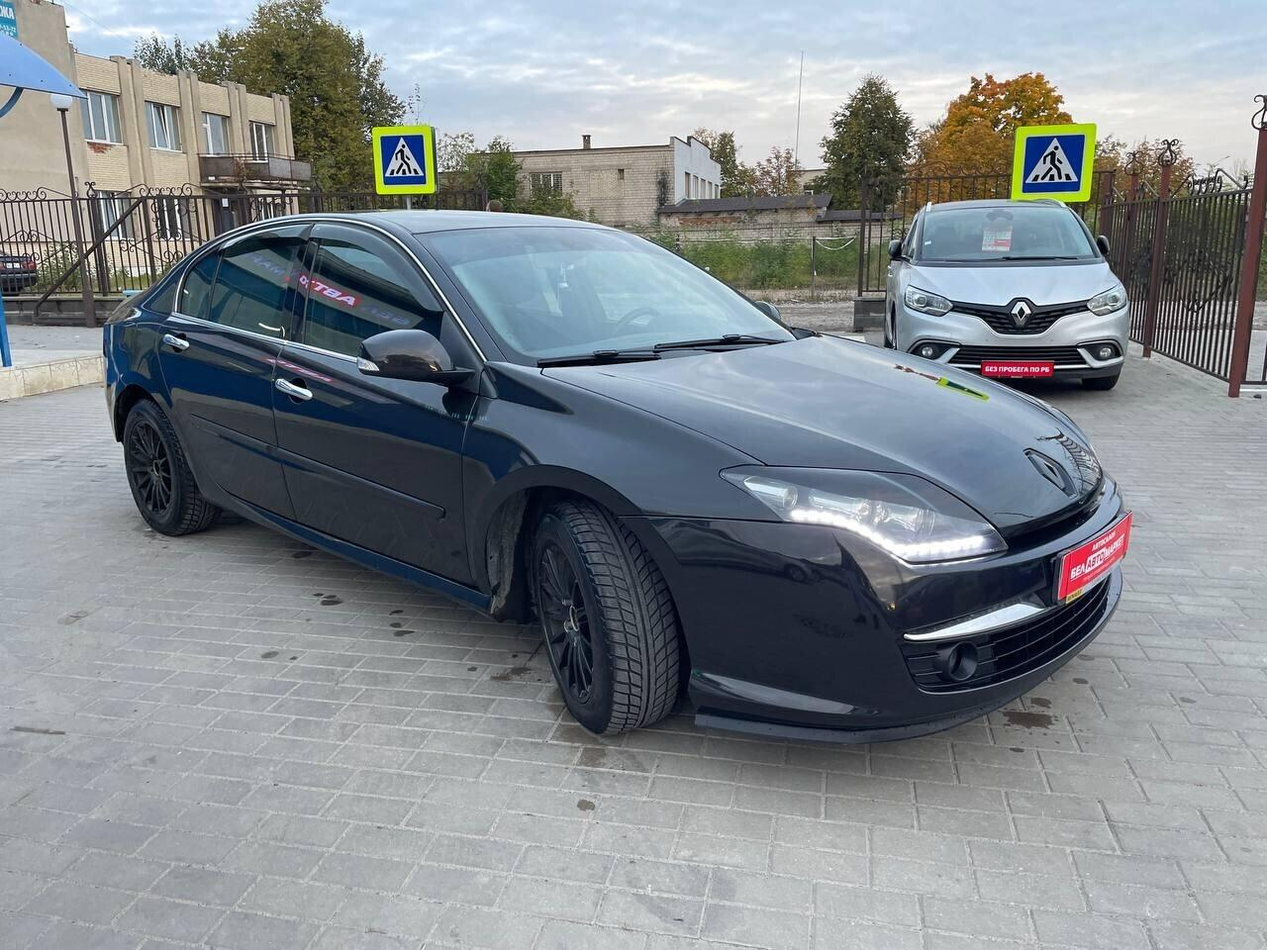Laguna_2010-2015: (95, 199, 1131, 767)
